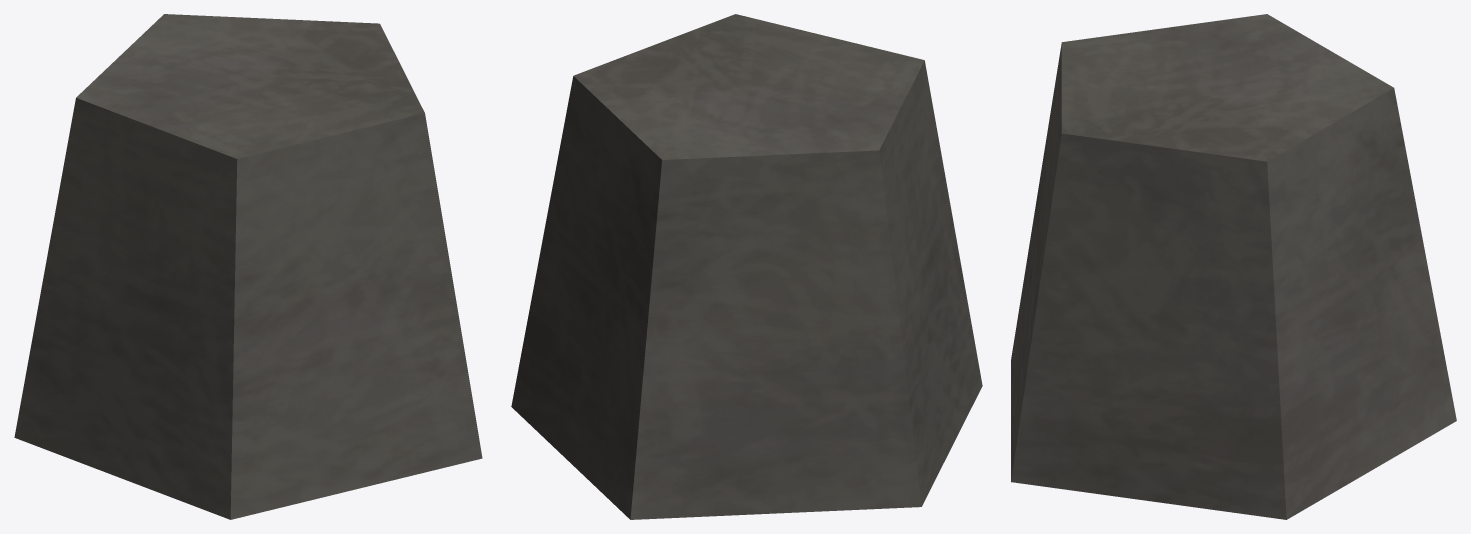
File: ZachMesaRock24.fbx
The picture shows the model from 3 angles, left to right: view 1: azimuth 30°, elevation 25°; view 2: azimuth 150°, elevation 25°; view 3: azimuth 270°, elevation 25°; orthographic projection.
Visible parts, largest first — view 1: ZachMesaRock24; view 2: ZachMesaRock24; view 3: ZachMesaRock24.
Boxes of the visible parts, box(x1,y1,x2,y2) form: ZachMesaRock24: box(14, 14, 482, 519); ZachMesaRock24: box(511, 14, 982, 519); ZachMesaRock24: box(1011, 14, 1456, 519).
Size of the model in its own units: 2.55 by 2 by 2.43.
